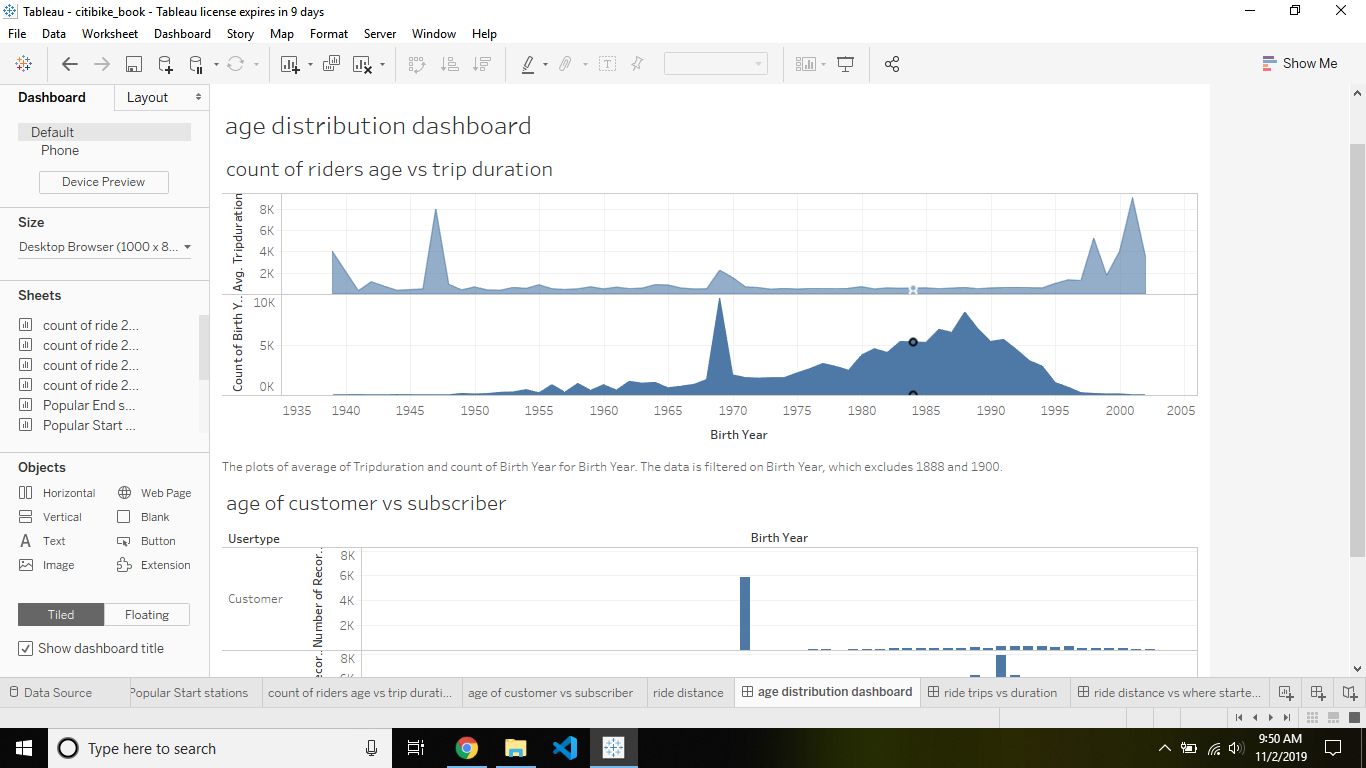

The page's visual inventory and layout, read from the dashboard file:
{"tool":"tableau","page":{"name":"age distribution dashboard","canvas":[1000,800],"ordinal":0},"visuals":[{"type":"text","box":[8,8,984,73]},{"type":"title","box":[8,81,984,42]},{"type":"worksheet","title":"count of riders age vs trip duration","mark":"Area","rows":["tripduration","birth year"],"cols":["birth year"],"box":[8,123,984,334.5]},{"type":"worksheet","title":"age of customer vs subscriber","mark":"Automatic","rows":["usertype","Number of Records"],"cols":["birth year"],"box":[8,457.5,984,334.5]}]}

Visuals, with their boxes on the page's 1000x800 design canvas (x1, y1, x2, y2). These are canvas units, not pixel positions in the 1366x768 screenshot, which may show the page scaled, cropped or inside an application window:
text: 8/8/992/81
title: 8/81/992/123
"count of riders age vs trip duration" worksheet (Area marks): 8/123/992/458
"age of customer vs subscriber" worksheet: 8/458/992/792
